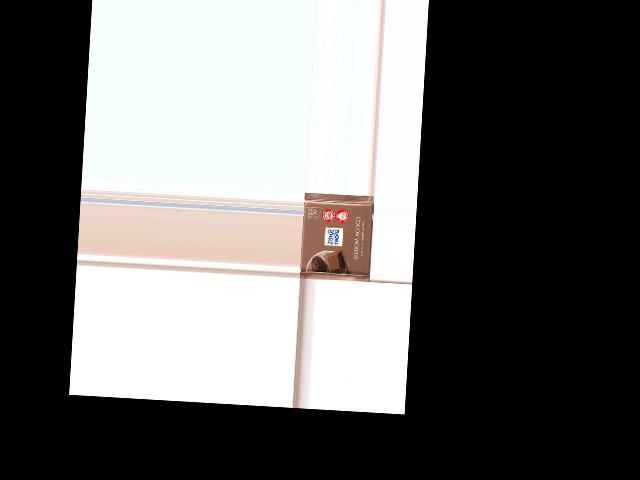chocolate: (300, 193, 375, 282)
